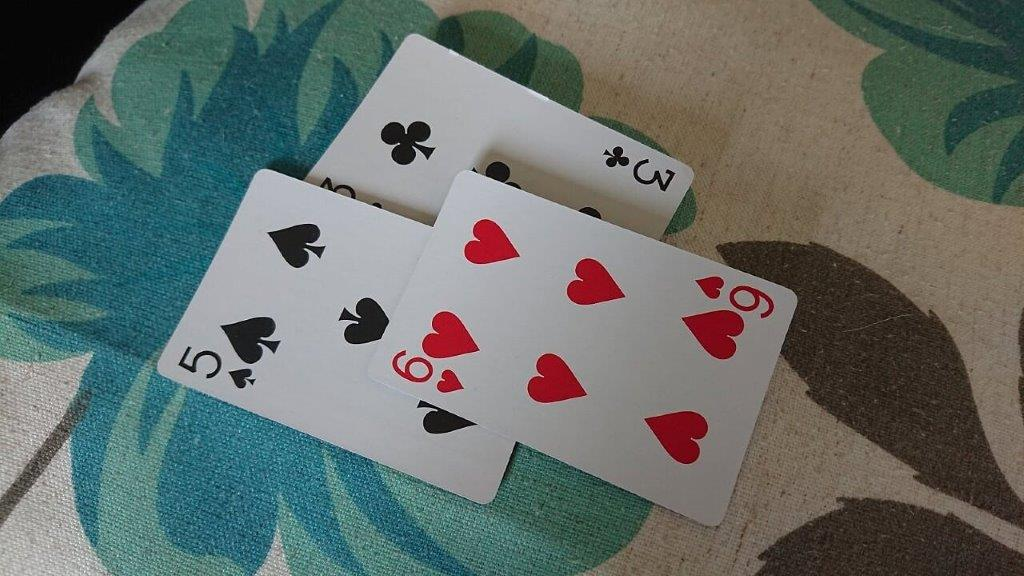5S: (172, 339, 258, 391)
6H: (385, 348, 463, 397)
